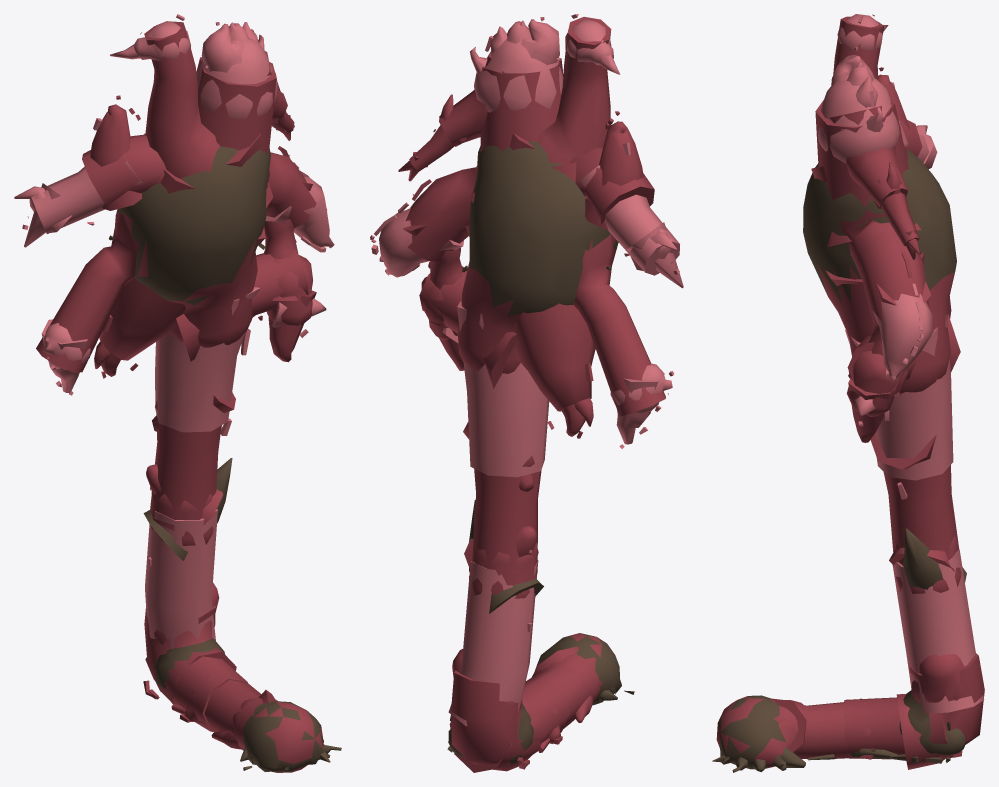
File: teflilly.glb
3 renders of one model, left to right at view 1: azimuth 30°, elevation 25°; view 2: azimuth 150°, elevation 25°; view 3: azimuth 270°, elevation 25°, orthographic. The views are drawn at different scales.
Visible parts, largest first — view 1: body; view 2: body; view 3: body.
Part boxes in pixels (x1,y1,x2,y2): body: (14,14,341,772); body: (370,14,683,772); body: (712,14,984,772).
Bounding box in the file's own units: 2.68 × 6.12 × 2.08.
